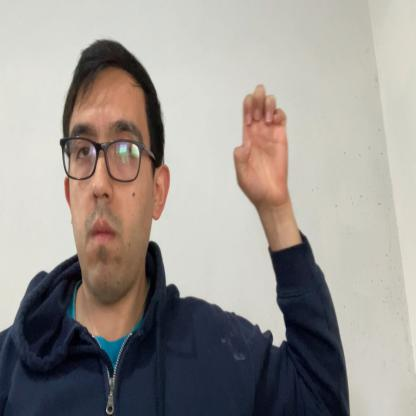E: (233, 82, 289, 207)
